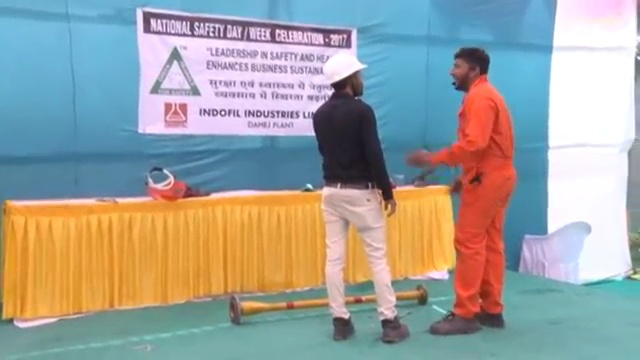helmet: (322, 51, 368, 82)
helmet_off: (450, 47, 490, 90)
helmet_on: (317, 53, 367, 104)
person: (408, 43, 512, 339), (307, 47, 408, 345)
